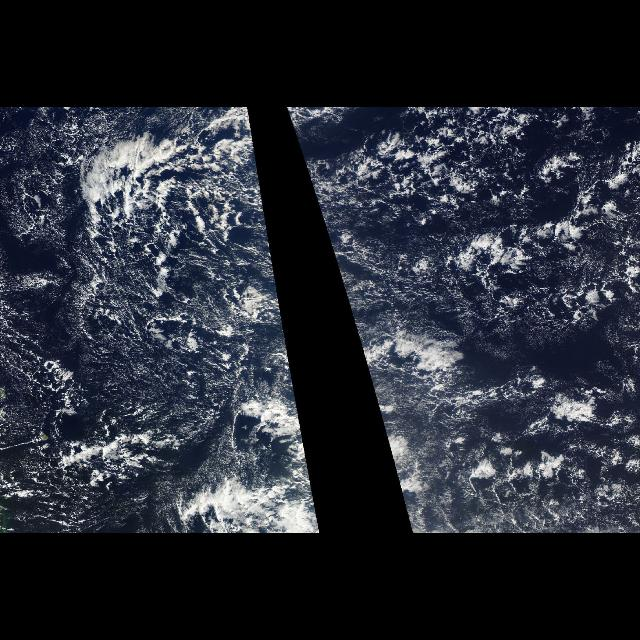Fish: (64, 115, 214, 235)
Gravel: (1, 107, 295, 533), (310, 108, 640, 336)
Sugar: (0, 235, 224, 430)
